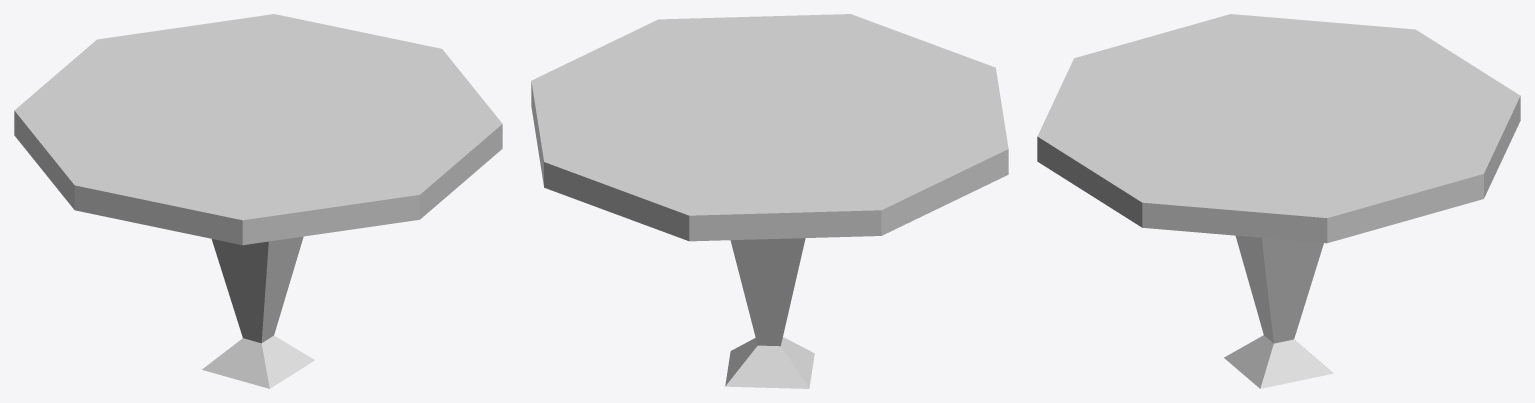
The model's file is WHITE TABLE.fbx.
3 views of the same model, side by side, from view 1: azimuth 30°, elevation 25°; view 2: azimuth 150°, elevation 25°; view 3: azimuth 270°, elevation 25° (orthographic). The views are drawn at different scales.
Parts seen in each view (by area): view 1: TABLE_1; view 2: TABLE_1; view 3: TABLE_1.
Boxes of the visible parts, x1,y1,x2,y2 form: TABLE_1: (14,14,502,388); TABLE_1: (531,14,1008,388); TABLE_1: (1037,14,1520,388).
Bounding box in the file's own units: 163 × 92.68 × 163.
1 material, 1 textured.
